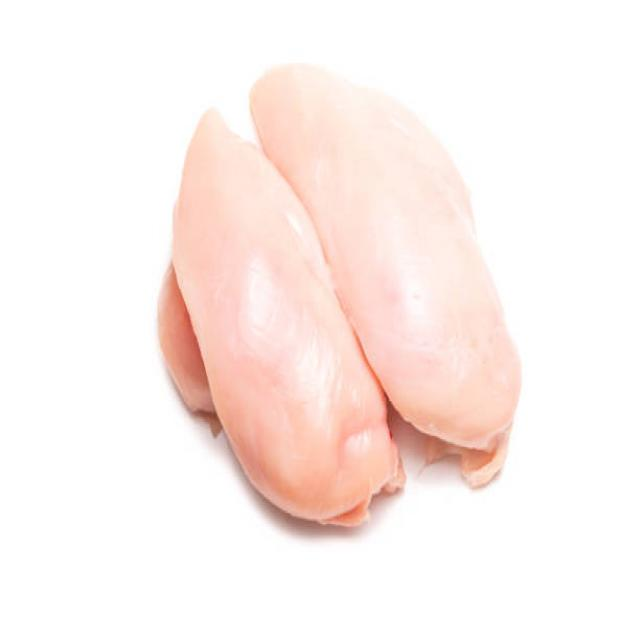Chicken Breast: (120, 60, 554, 518)
